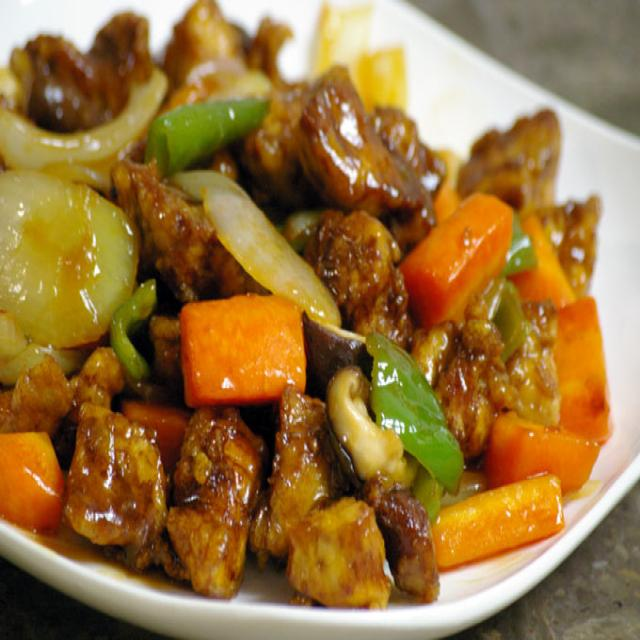猪肉菜式: (0, 0, 610, 609)
